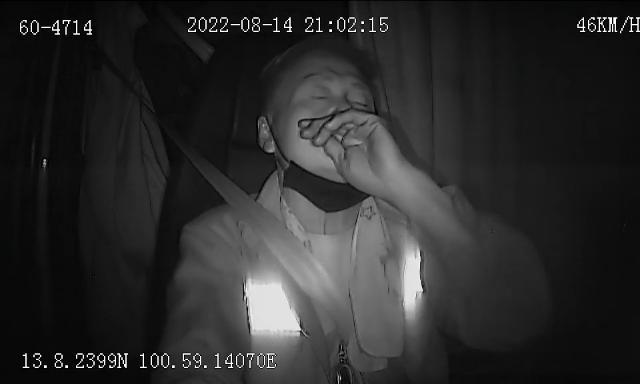Seatbelt: (163, 128, 357, 344)
